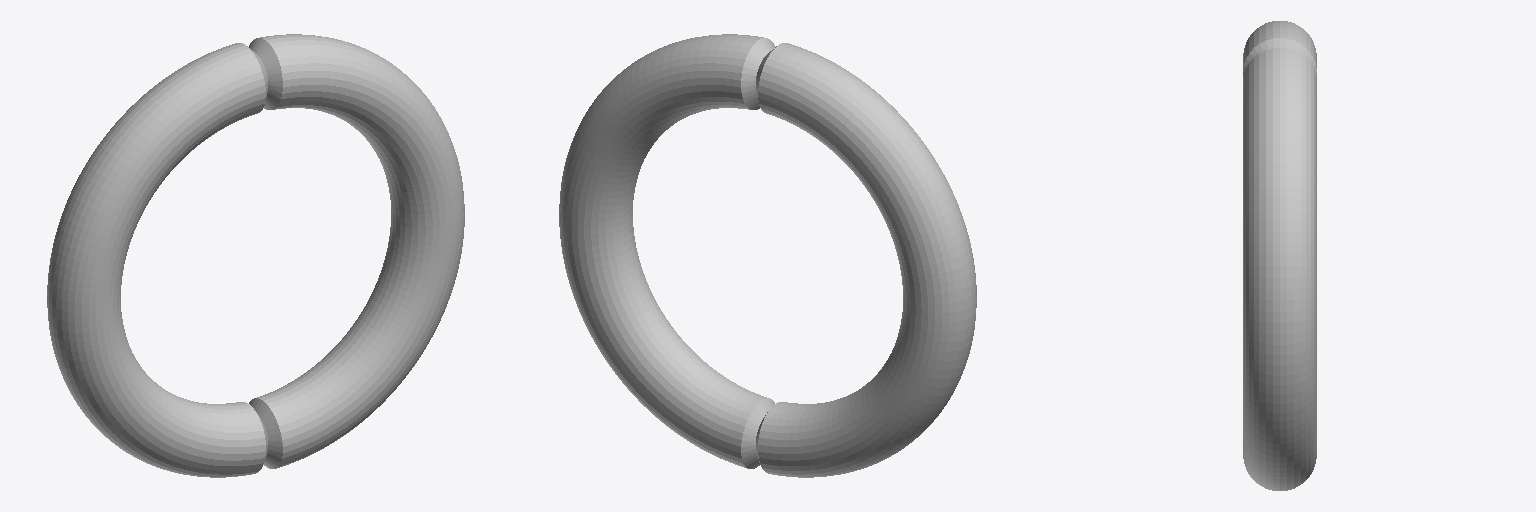
The model's file is toruscontainor.obj.
The picture shows the model from 3 angles: view 1: azimuth 30°, elevation 25°; view 2: azimuth 150°, elevation 25°; view 3: azimuth 270°, elevation 25°; orthographic projection.
Parts seen in each view (by area): view 1: Torus.012; view 2: Torus.012; view 3: Torus.012.
Boxes of the visible parts, x1,y1,x2,y2 form: Torus.012: [47, 34, 464, 477]; Torus.012: [559, 34, 976, 477]; Torus.012: [1243, 21, 1316, 490].
Bounding box in the file's own units: 9.49 × 9.48 × 1.49.